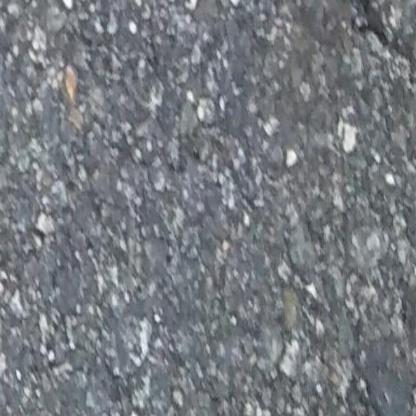Cracks: (363, 0, 416, 55)
